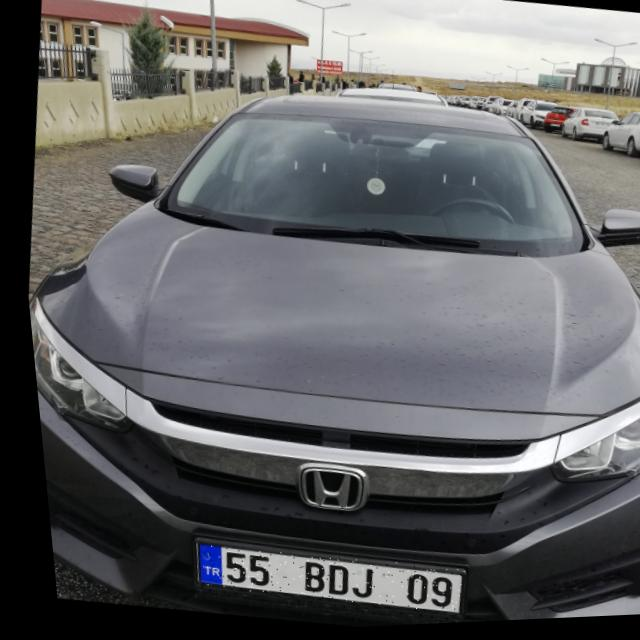license_plate: (183, 536, 458, 627)
